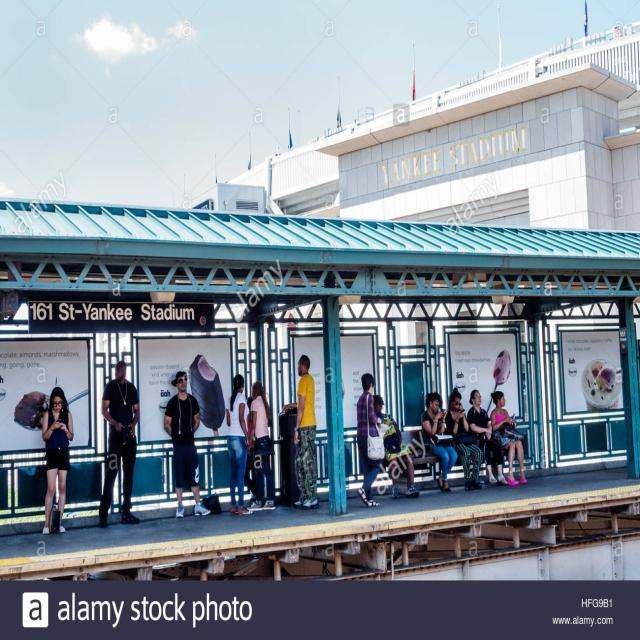body: (96, 359, 142, 528), (162, 368, 212, 520), (280, 353, 320, 511), (41, 385, 75, 536), (373, 393, 421, 498), (465, 388, 510, 487), (245, 379, 278, 512), (355, 372, 386, 508), (445, 386, 484, 492), (420, 390, 459, 494), (226, 374, 253, 516), (489, 390, 528, 486), (243, 395, 257, 505)
